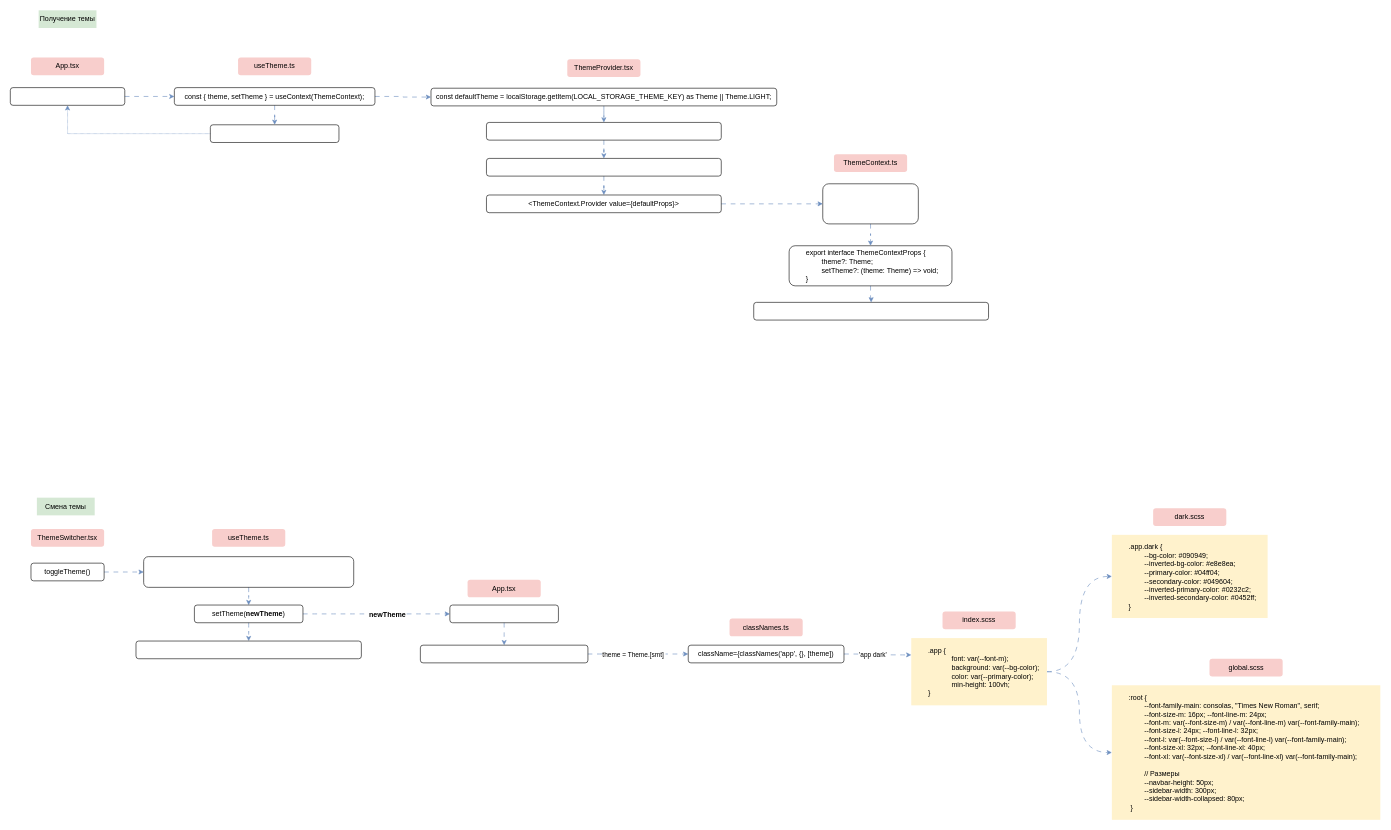
Some shapes in this 1391 by 830 pixel diagram are drawn without their labels. The shapes that lost their labels are listed below. From the top down, each one's centre as x and y in pixels, then its label:
At pixel 67 96: "const { theme } = useTheme();".
At pixel 274 133: "return { theme, toggleTheme, };".
At pixel 603 131: "const [theme, setTheme] = useState<Theme>(defaultTheme);".
At pixel 603 167: "const defaultProps = useMemo(() => ({ theme, setTheme }, [theme])".
At pixel 870 203: "export enum Theme { LIGHT = 'light', DARK = 'dark', }".
At pixel 871 311: "export const ThemeContext = createContext<ThemeContextProps>({})".
At pixel 248 571: "const newTheme = theme === Theme.DARK ? Theme.LIGHT : Theme.DARK".
At pixel 503 613: "const { theme } = useTheme()".
At pixel 248 649: "localStorage .setItem(LOCAL_STORAGE_THEME_KEY, newTheme)".
At pixel 504 654: "<div className={classNames('app', {}, [theme])}>".
